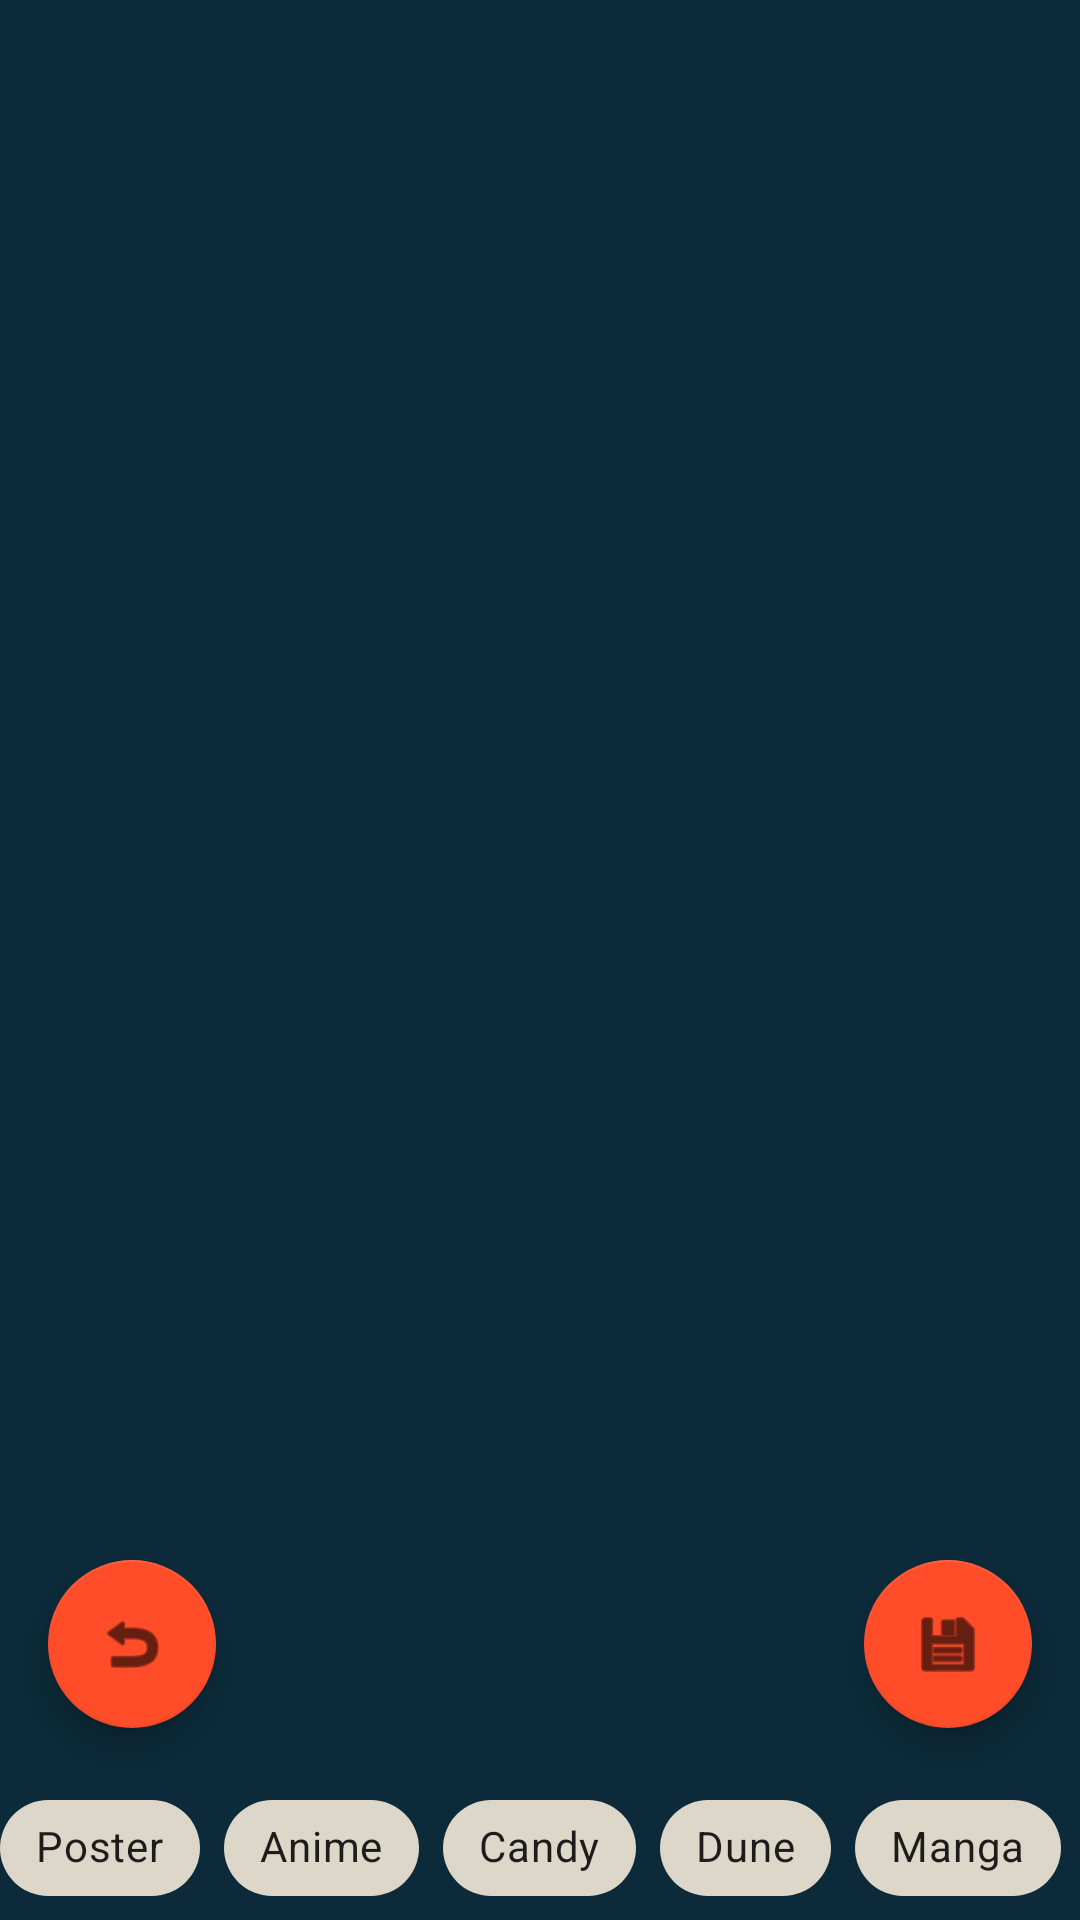

Named icons in this screenshot (1080×1920) and their bounding boxes, BBox(x1, y1, x2, y2):
Saves the video to Gallery: BBox(864, 1560, 1032, 1728)
